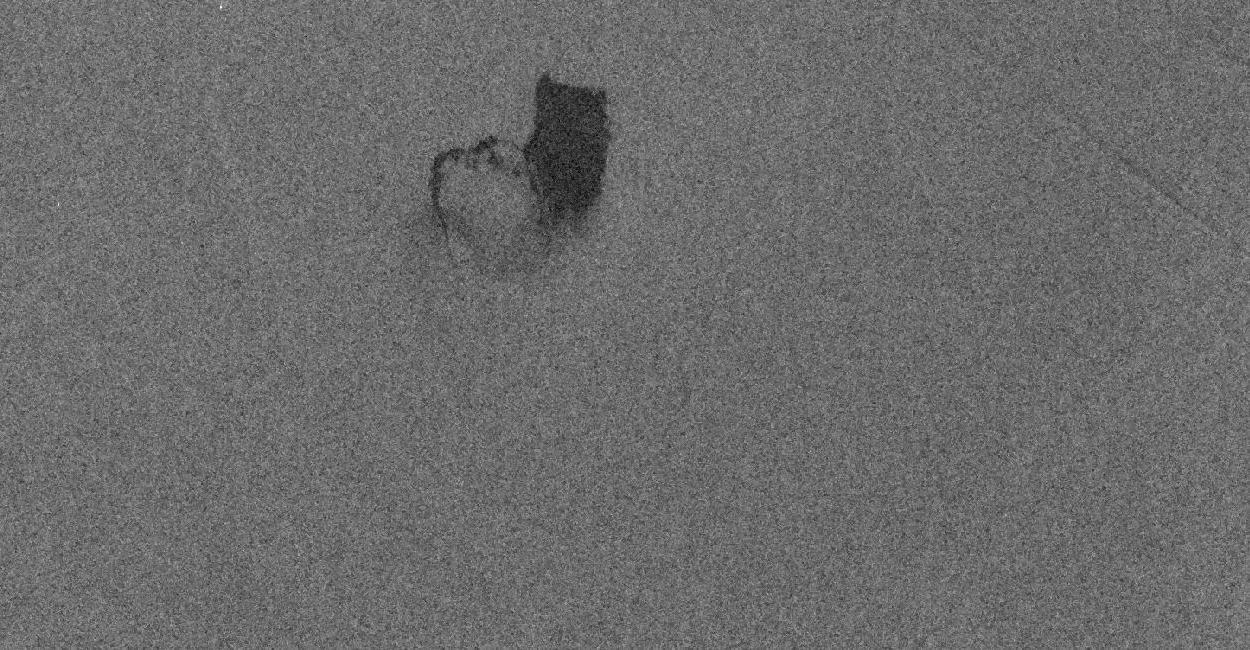Oil Spill: (408, 72, 612, 278), (418, 226, 420, 229), (464, 214, 466, 216), (482, 262, 484, 264), (466, 216, 468, 217)
